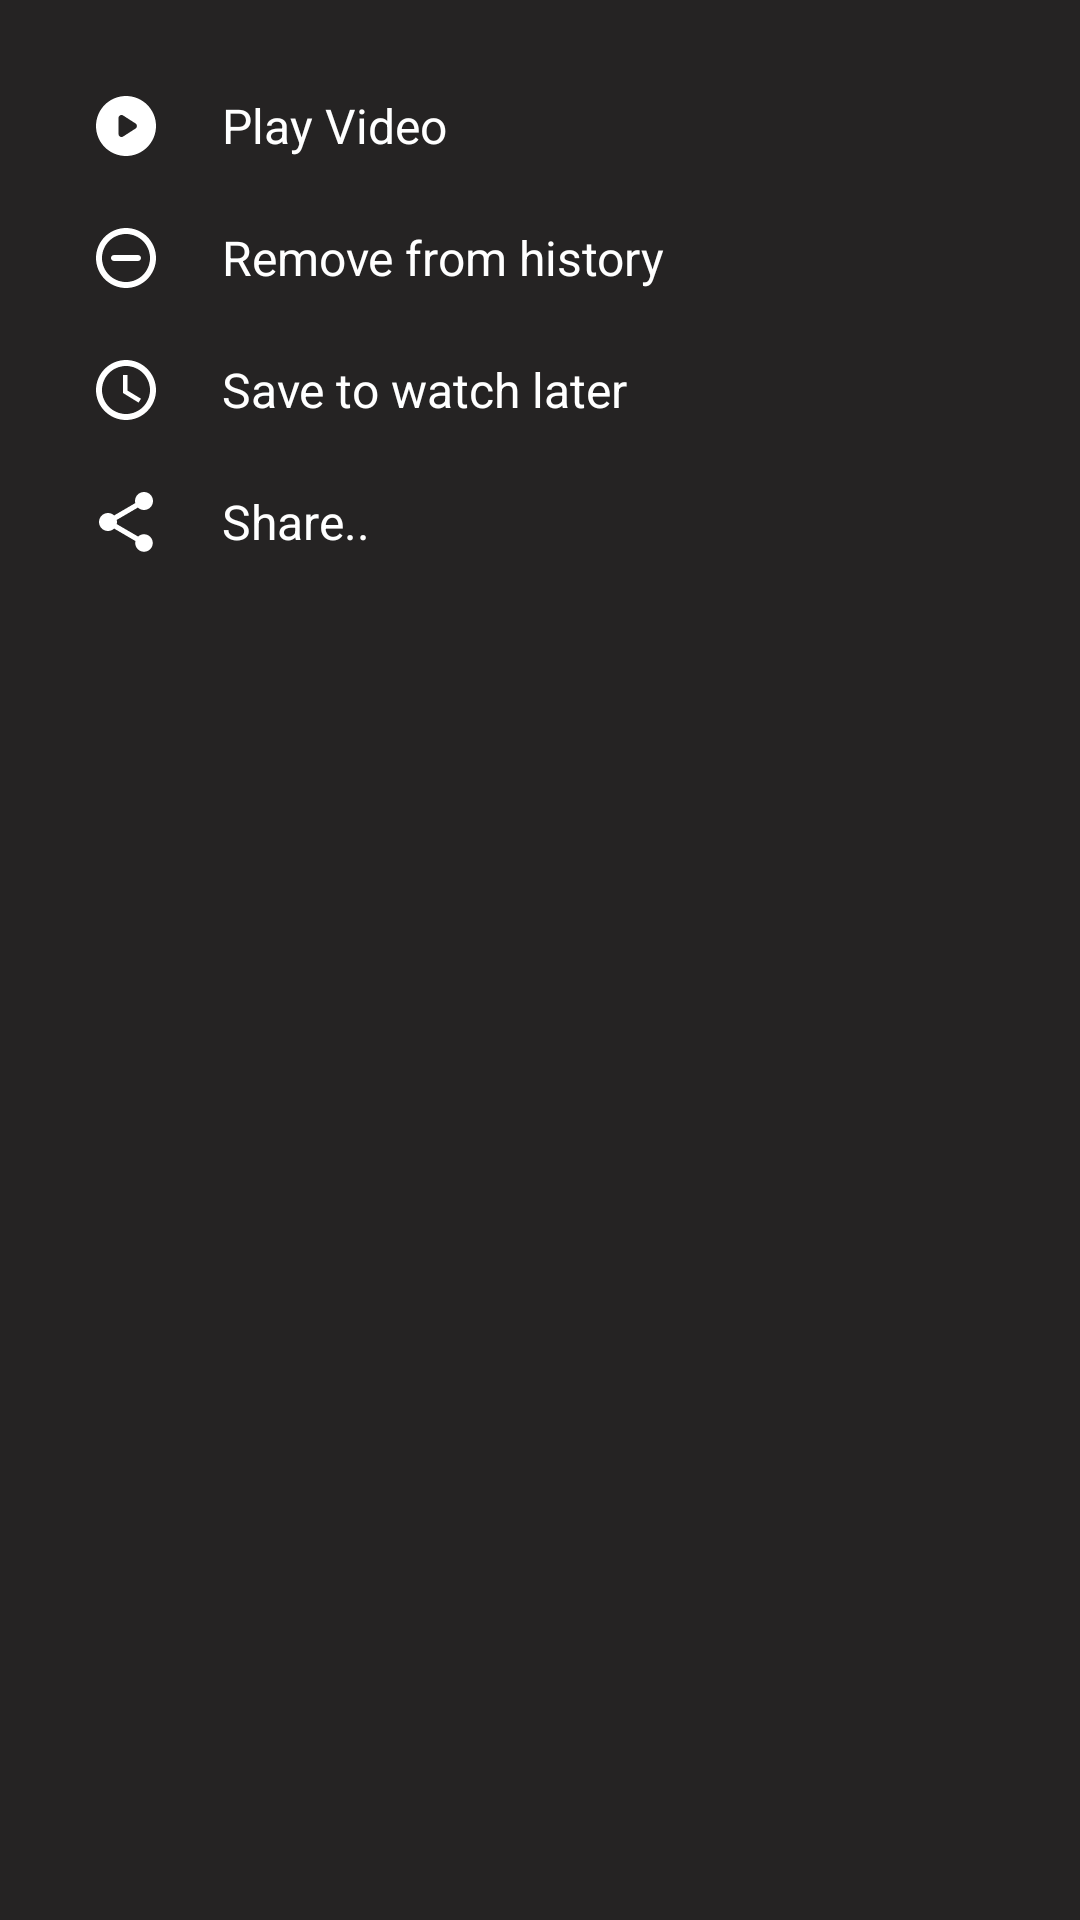

Icon bounding boxes for this 1080*1920 phone screenshot, format (x1, y1, x2, y2):
exo play: (96, 96, 156, 156)
remove video: (96, 228, 156, 288)
